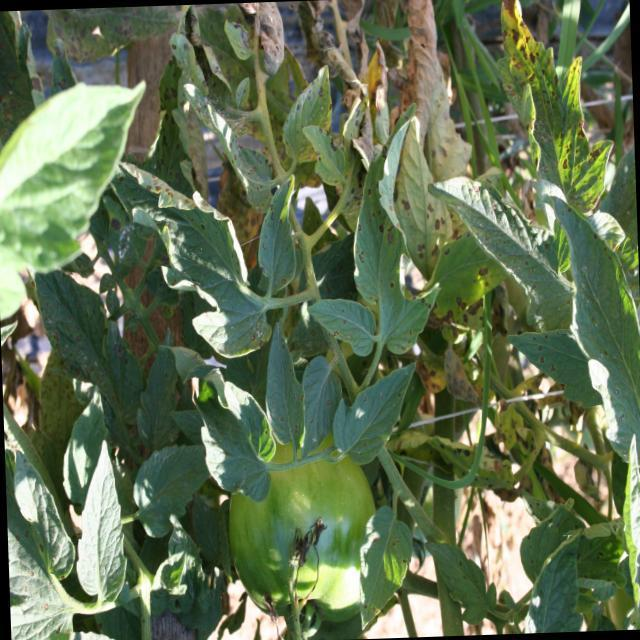Septoria: (38, 278, 118, 406), (7, 500, 64, 640), (362, 515, 408, 620), (362, 150, 396, 290), (200, 407, 250, 495), (186, 210, 243, 286), (266, 324, 304, 436), (257, 178, 296, 286), (277, 75, 330, 150), (224, 130, 270, 210), (303, 121, 343, 187), (305, 360, 340, 424), (394, 294, 430, 350), (360, 384, 402, 418), (330, 306, 350, 340), (357, 441, 366, 460)
